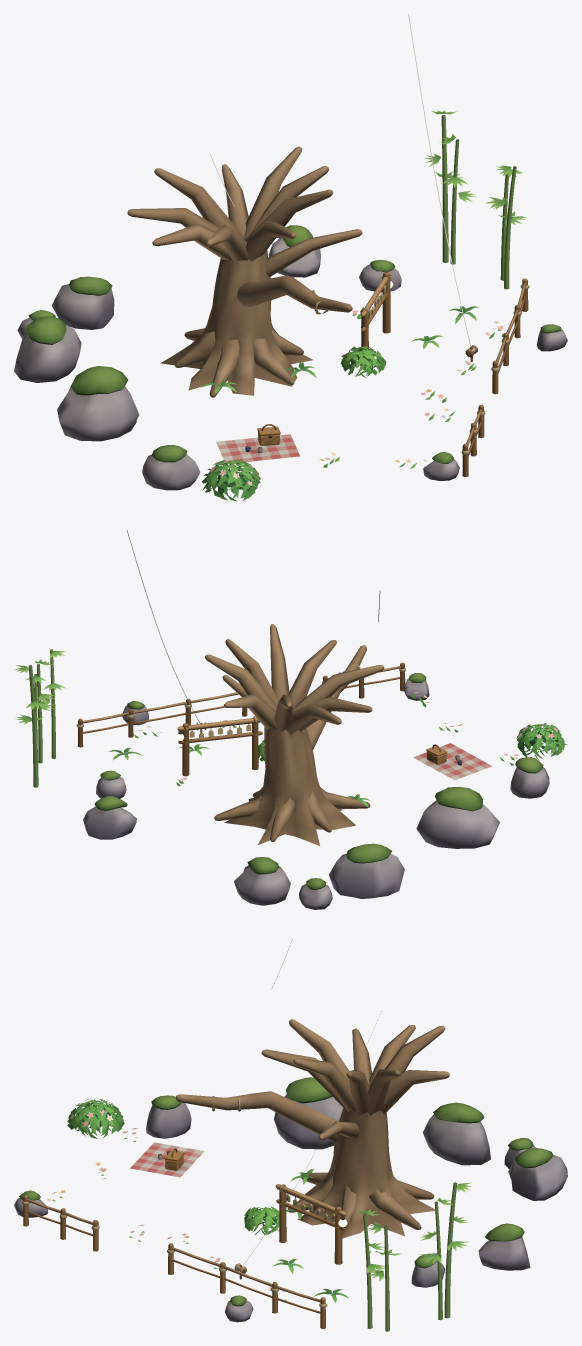
Rendered from poi-wishtree-0.glb.
3 renders of one model, top to bottom at view 1: azimuth 30°, elevation 25°; view 2: azimuth 150°, elevation 25°; view 3: azimuth 270°, elevation 25°, orthographic. The views are drawn at different scales.
Parts seen in each view (by area): view 1: body, leaf; view 2: body, leaf; view 3: body, leaf.
Part boxes in pixels (x1,y1,x2,y2): body: [14, 14, 567, 490]; leaf: [200, 110, 526, 501]; body: [76, 530, 549, 909]; leaf: [14, 649, 567, 807]; body: [14, 939, 567, 1328]; leaf: [46, 1099, 471, 1331].
Bounding box in the file's own units: 15.38 × 9.1 × 15.45.
